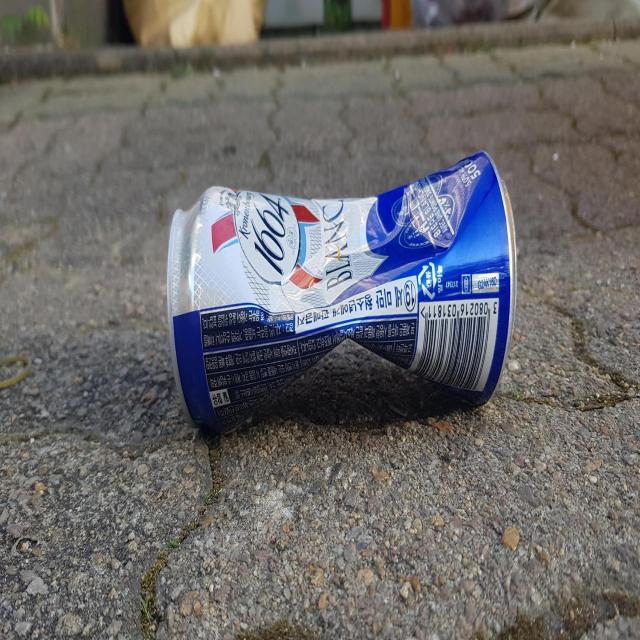can: (167, 151, 517, 432)
